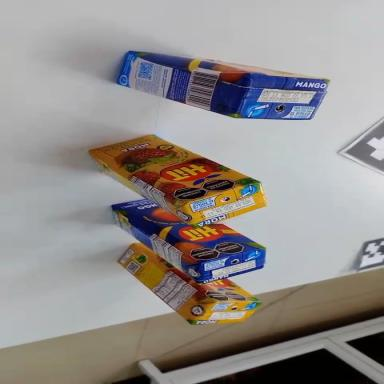HIT-MANGO: (99, 172, 271, 306), (114, 44, 329, 132)
HIT-MORA: (79, 114, 273, 249), (107, 238, 264, 346)
cara_F: (85, 113, 259, 226), (109, 172, 265, 287), (133, 224, 262, 324), (130, 45, 329, 87)
